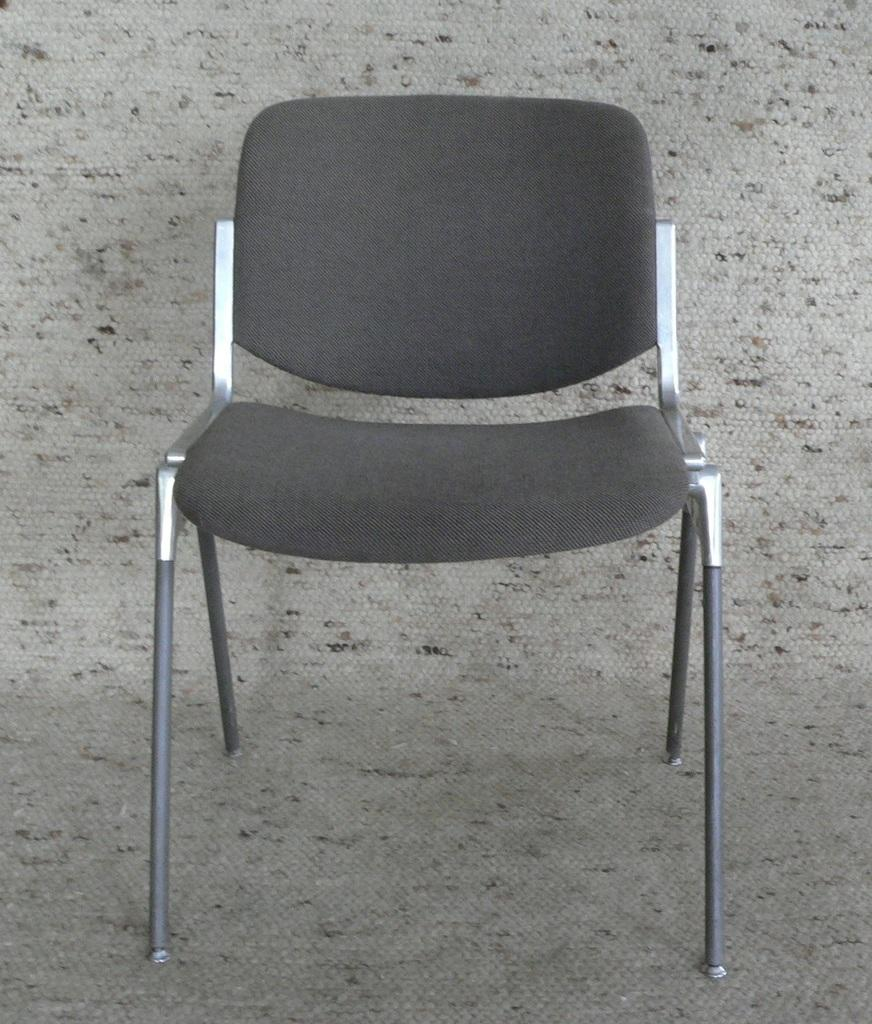Chair: (141, 90, 731, 984)
